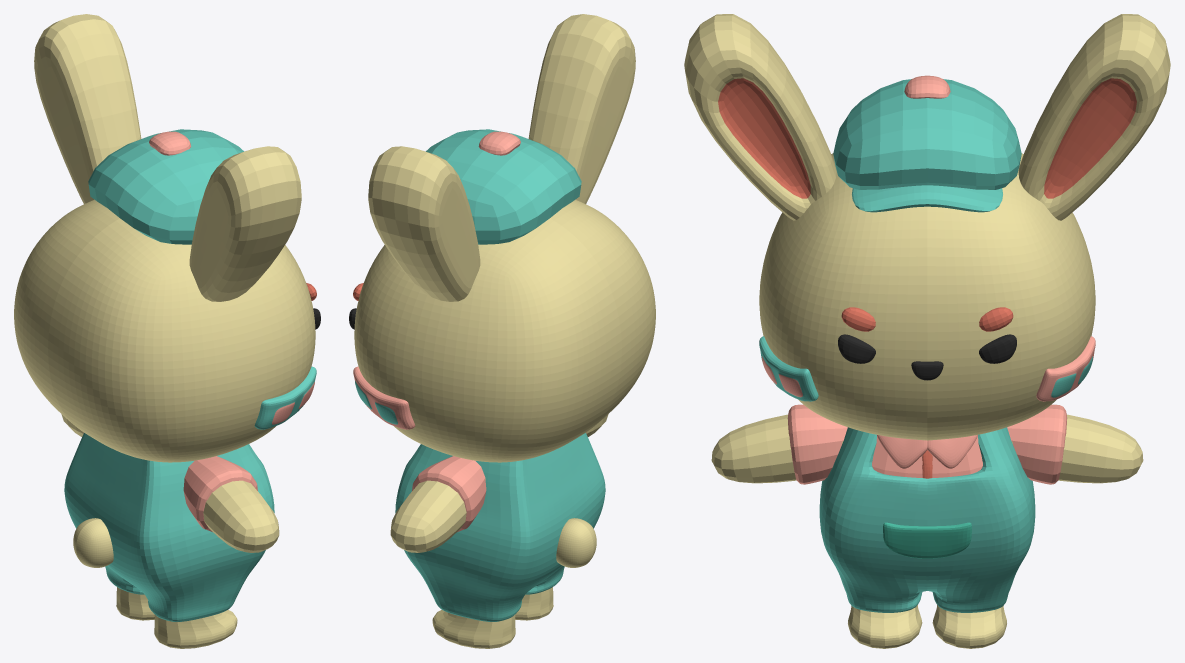
File: Sunny.glb
The picture shows the model from 3 angles, left to right: view 1: azimuth 30°, elevation 25°; view 2: azimuth 150°, elevation 25°; view 3: azimuth 270°, elevation 25°; orthographic projection. The views are drawn at different scales.
Parts seen in each view (by area): view 1: Orejas; view 2: Orejas; view 3: Orejas.
Part boxes in pixels (bbox=[...]): Orejas: bbox=[14, 14, 320, 648]; Orejas: bbox=[349, 14, 655, 648]; Orejas: bbox=[684, 14, 1170, 648].
Size of the model in its own units: 1.89 by 4.07 by 2.94.
